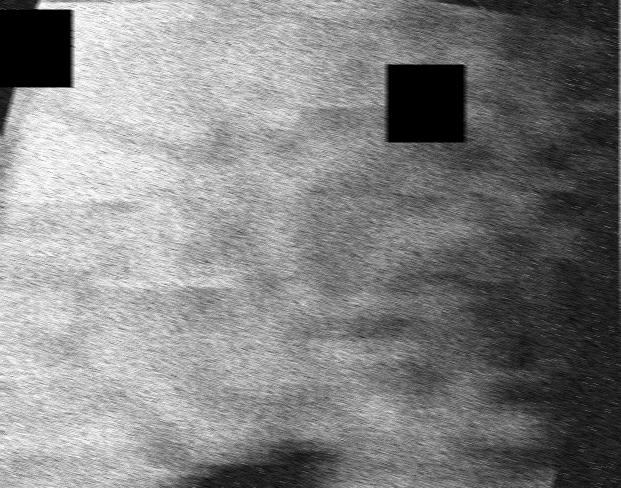Airbag: (0, 0, 620, 488), (619, 0, 621, 488)
